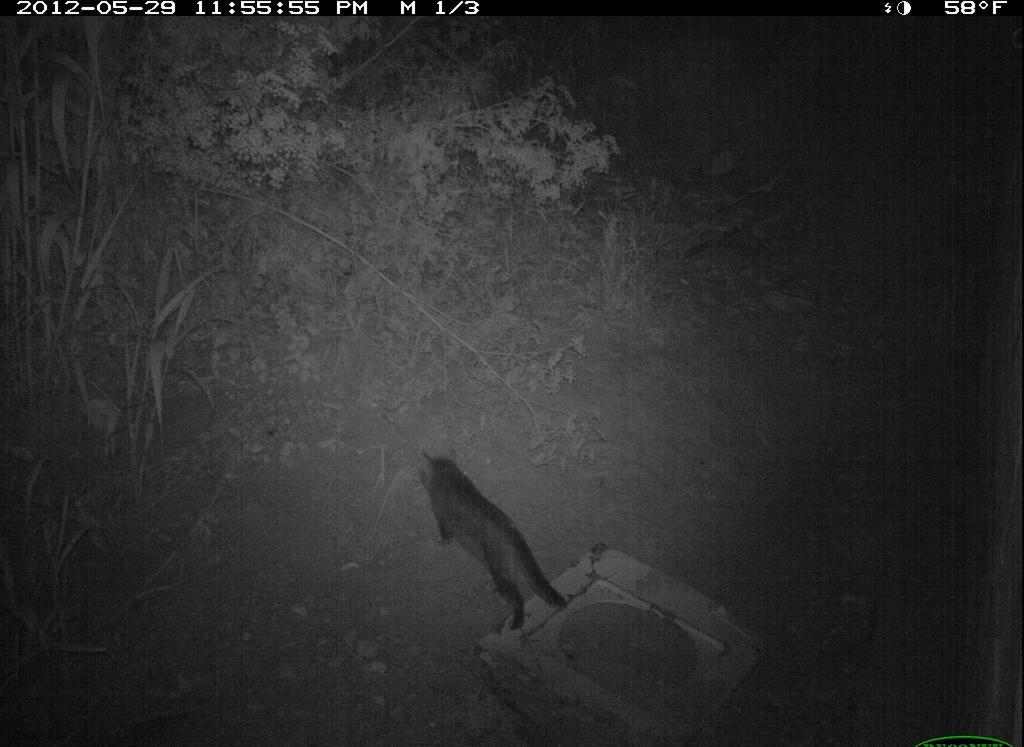cat: (404, 437, 577, 644)
